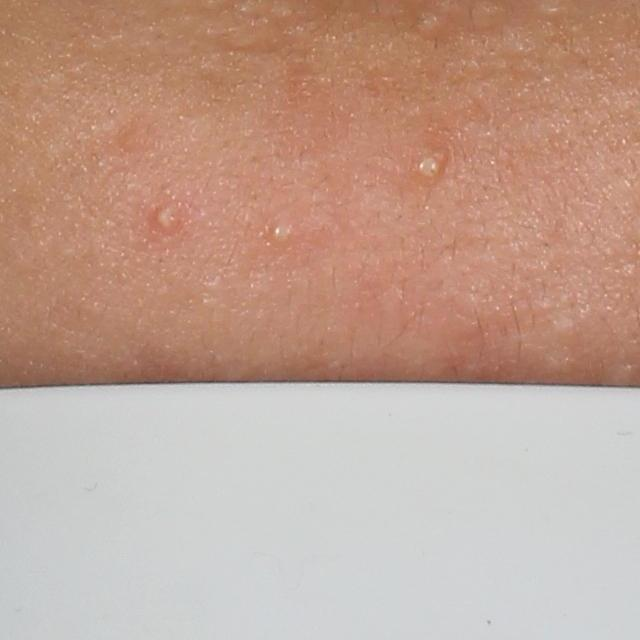hypertrophic_scar: (540, 1, 570, 20)
pustule: (401, 141, 455, 191), (266, 222, 297, 253)
